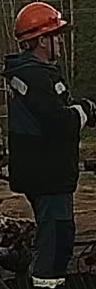gloves: (79, 97, 96, 123)
helmet: (13, 1, 67, 42)
vest: (2, 54, 80, 195)
